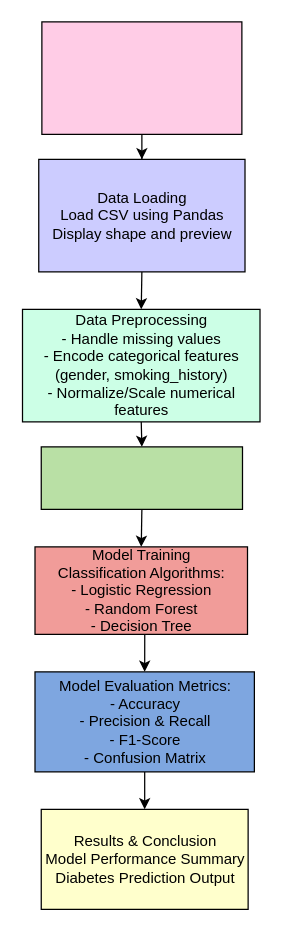
This 281x931 diagram has some shape labels left out. Here are the shapes that lost their labels. From the top down, the centre of each, then its label:
At point (141, 77): "Dataset Selection Diabetes Prediction Dataset (100,000 patients, 9 features)".
At point (141, 477): "Train/Test Split 80% Training Data 20% Testing Data".
